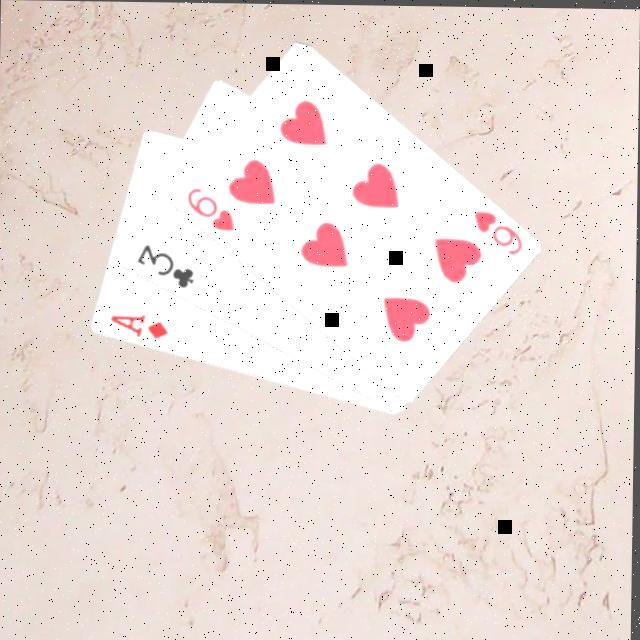3C: (134, 239, 199, 291)
6H: (471, 205, 528, 257), (184, 182, 239, 233)
AD: (108, 309, 172, 342)
